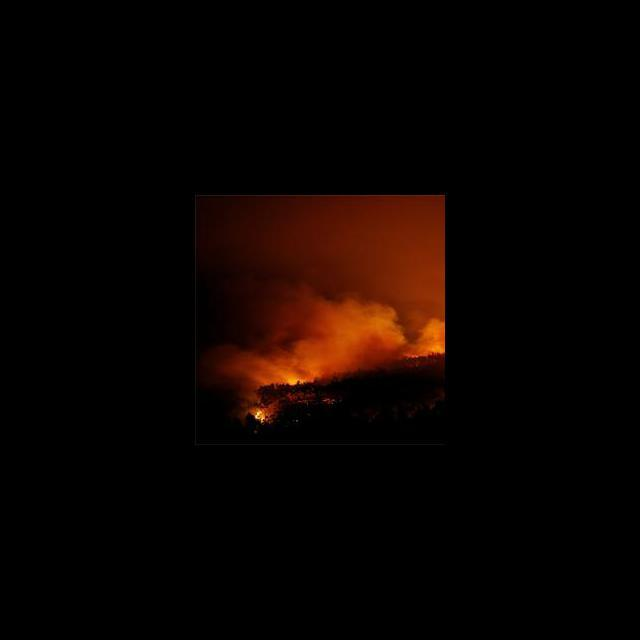Fire: (243, 400, 280, 434)
Smoke: (196, 195, 445, 387)
